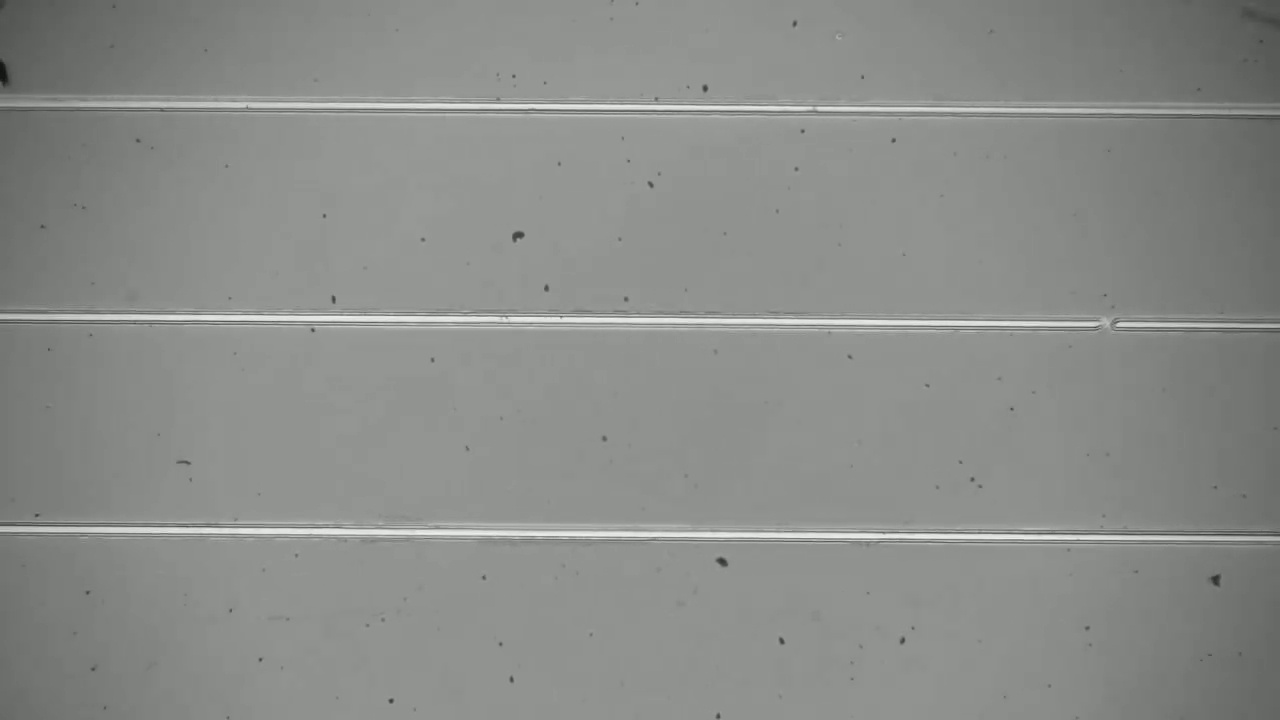open: (1081, 302, 1130, 344)
